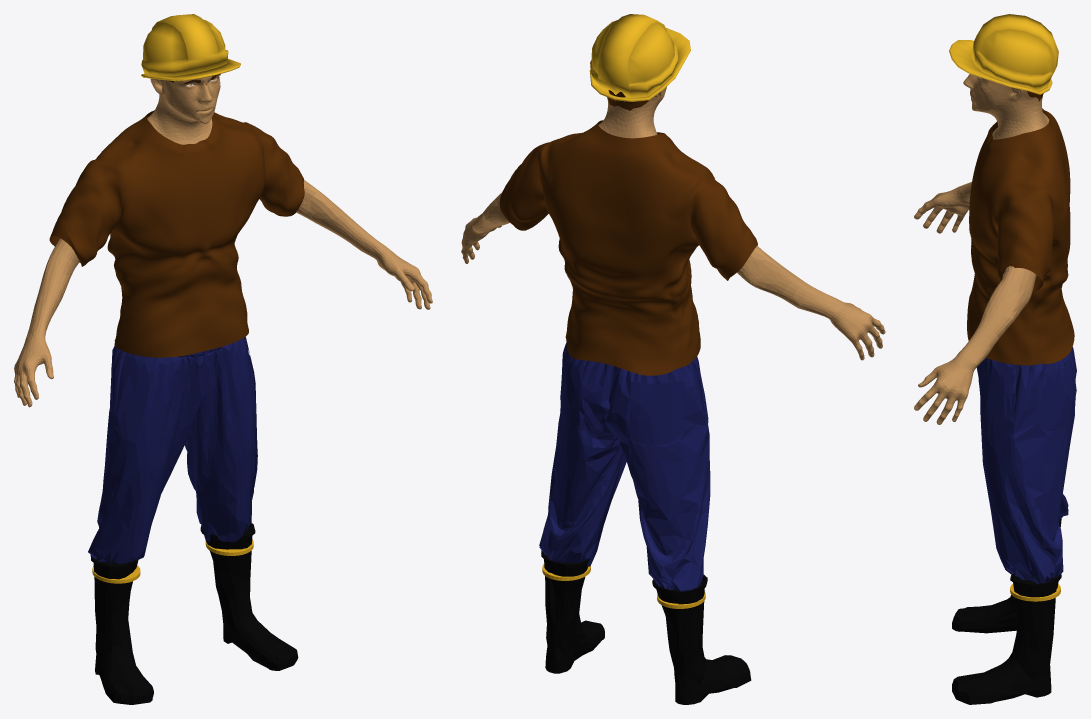
Rendered from PropFinal.fbx.
3 views of the same model, side by side, from view 1: azimuth 30°, elevation 25°; view 2: azimuth 150°, elevation 25°; view 3: azimuth 270°, elevation 25° (orthographic).
Visible parts, largest first — view 1: Humano; view 2: Humano; view 3: Humano.
Boxes of the visible parts, x1=… form: Humano: x1=14, y1=14, x2=432, y2=704; Humano: x1=461, y1=14, x2=885, y2=704; Humano: x1=914, y1=14, x2=1076, y2=704.
Size of the model in its own units: 117 by 179 by 41.05.
